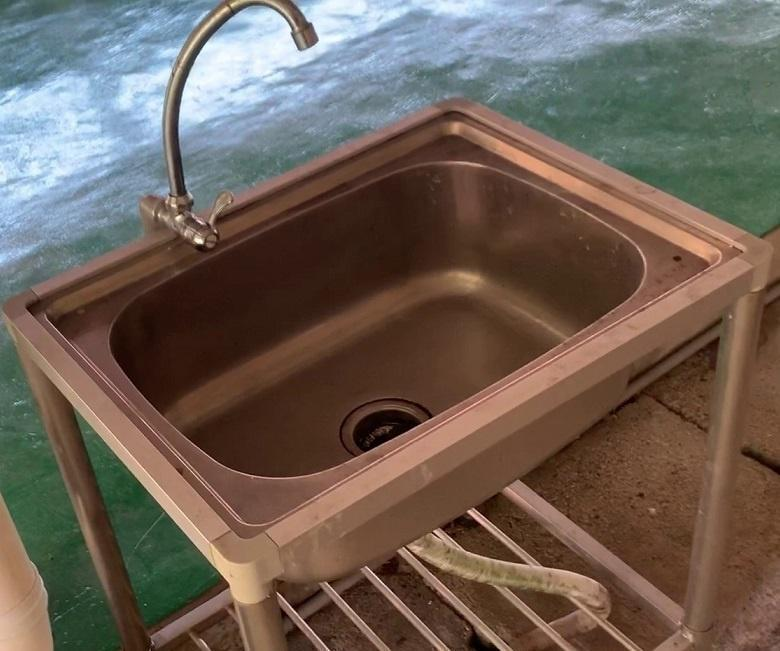Lavaplatos: (0, 0, 779, 561)
